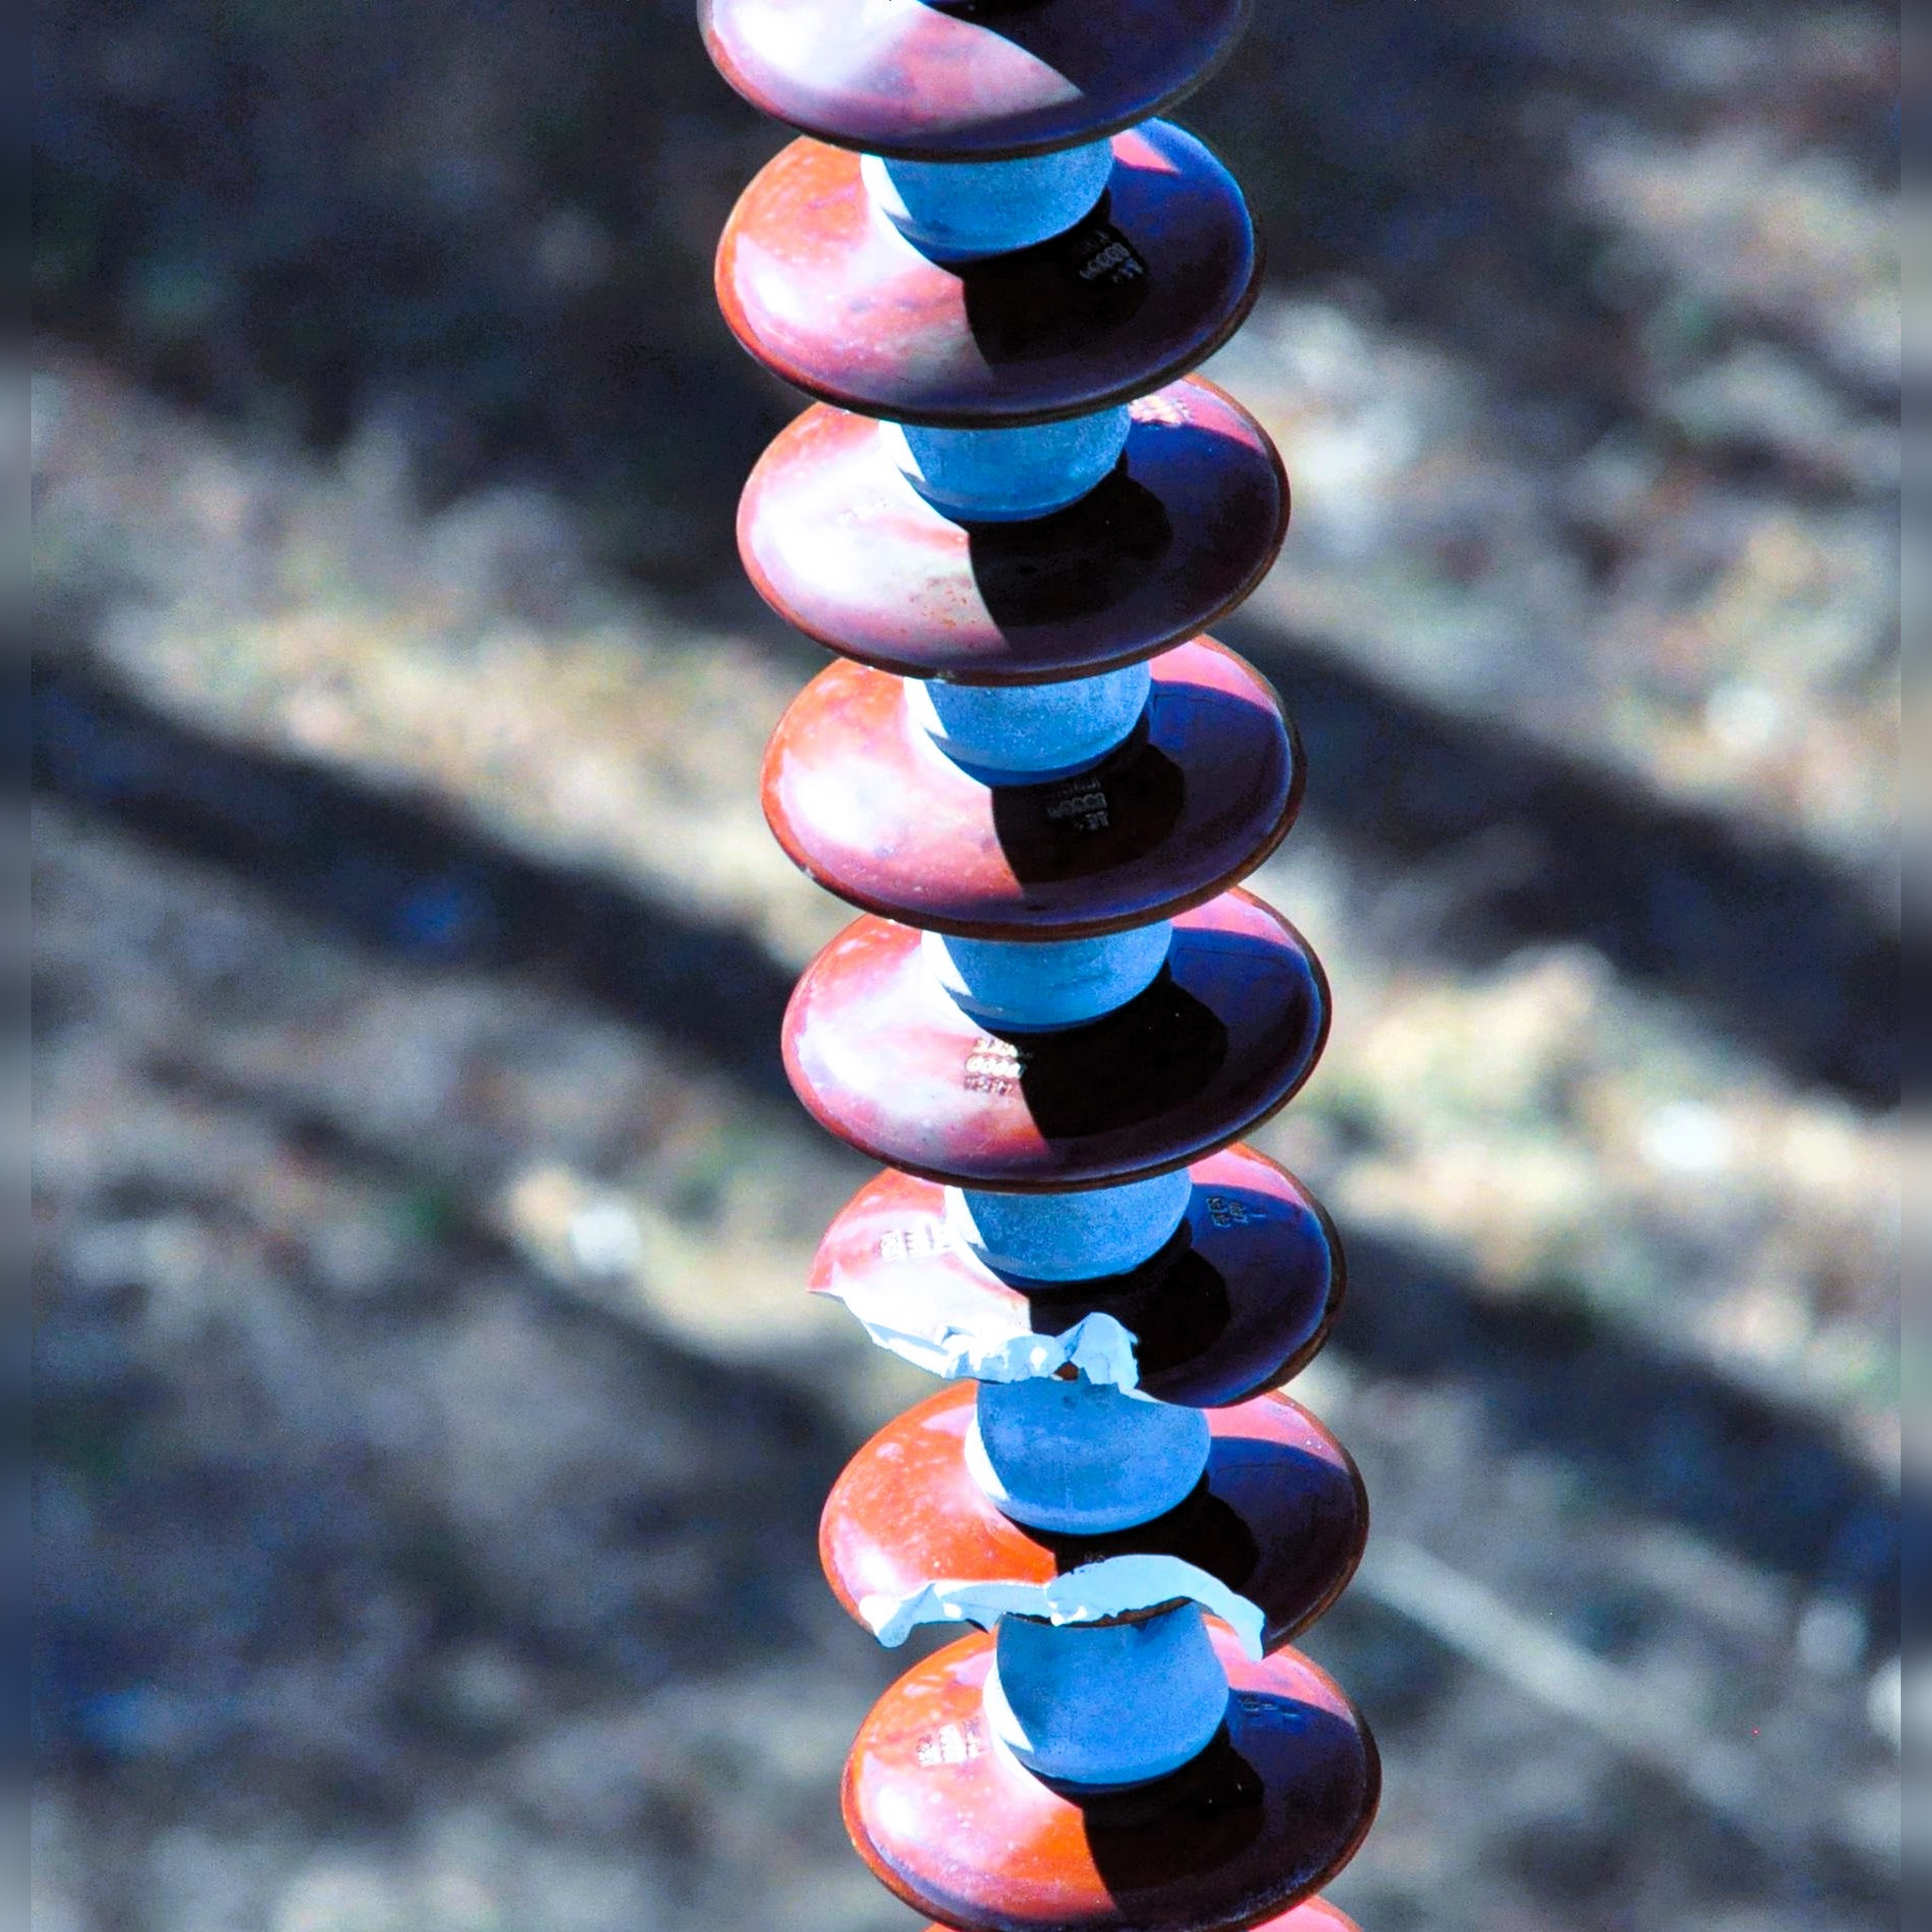insulator breakage: (809, 1155, 1394, 1677)
